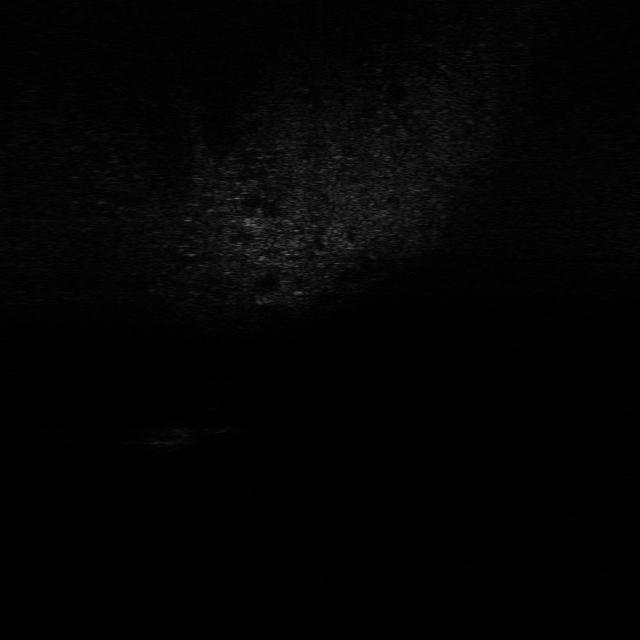ball: (202, 404, 239, 434)
circle cage: (138, 421, 200, 452)
